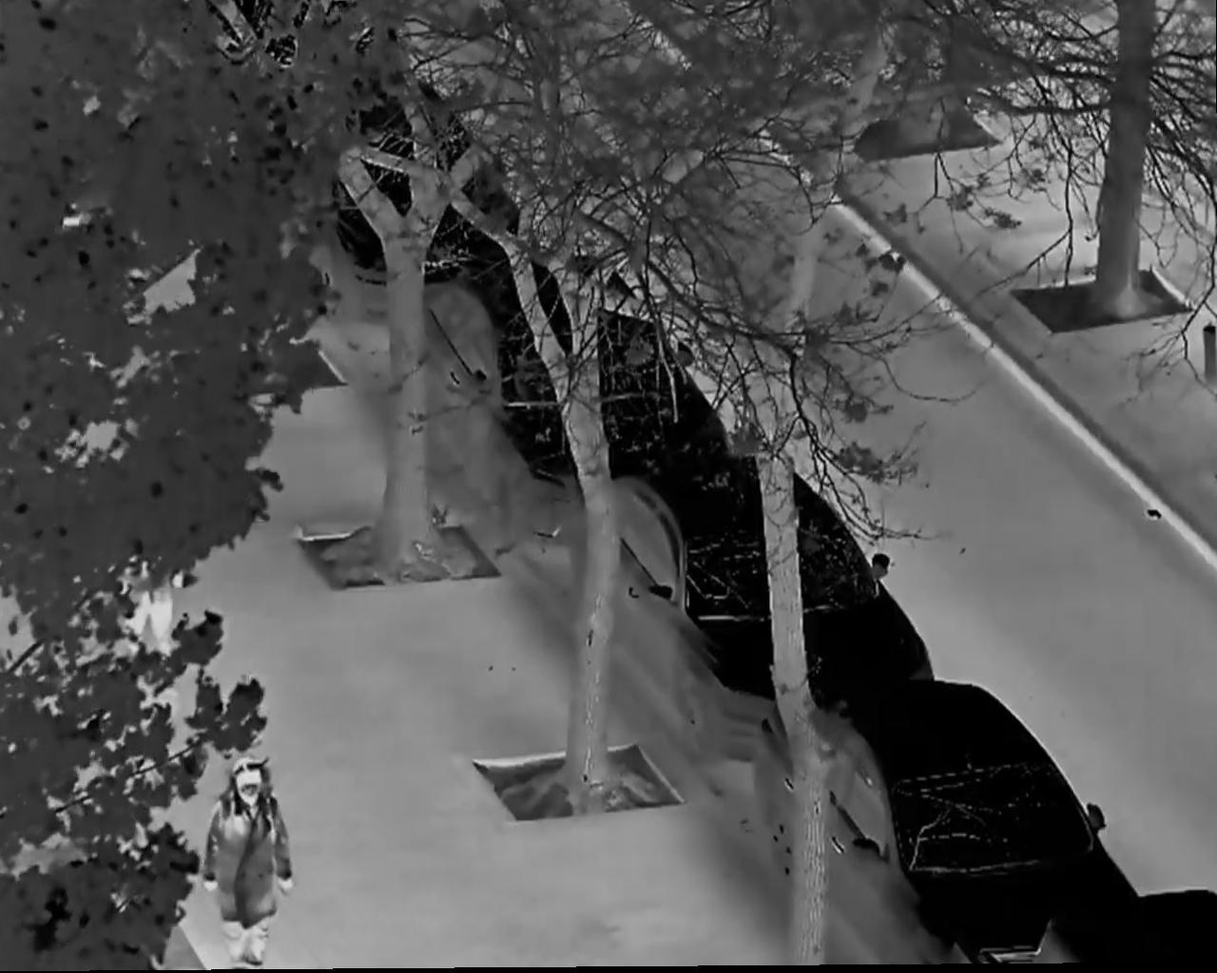person: (200, 755, 298, 973), (113, 488, 186, 696)
